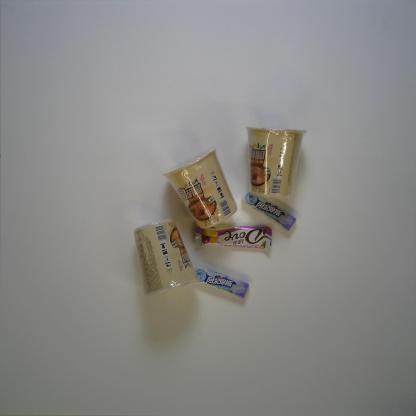Candy: (242, 191, 298, 231), (194, 265, 250, 299)
Chocolate: (194, 224, 272, 252)
Instant Noodles: (162, 147, 238, 229), (133, 218, 199, 297), (246, 124, 307, 198)
